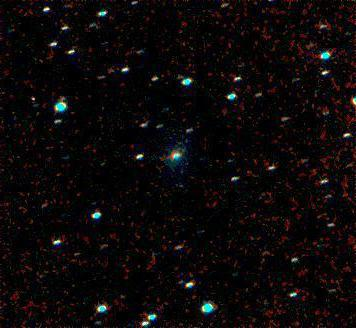star: (20, 83, 50, 113)
